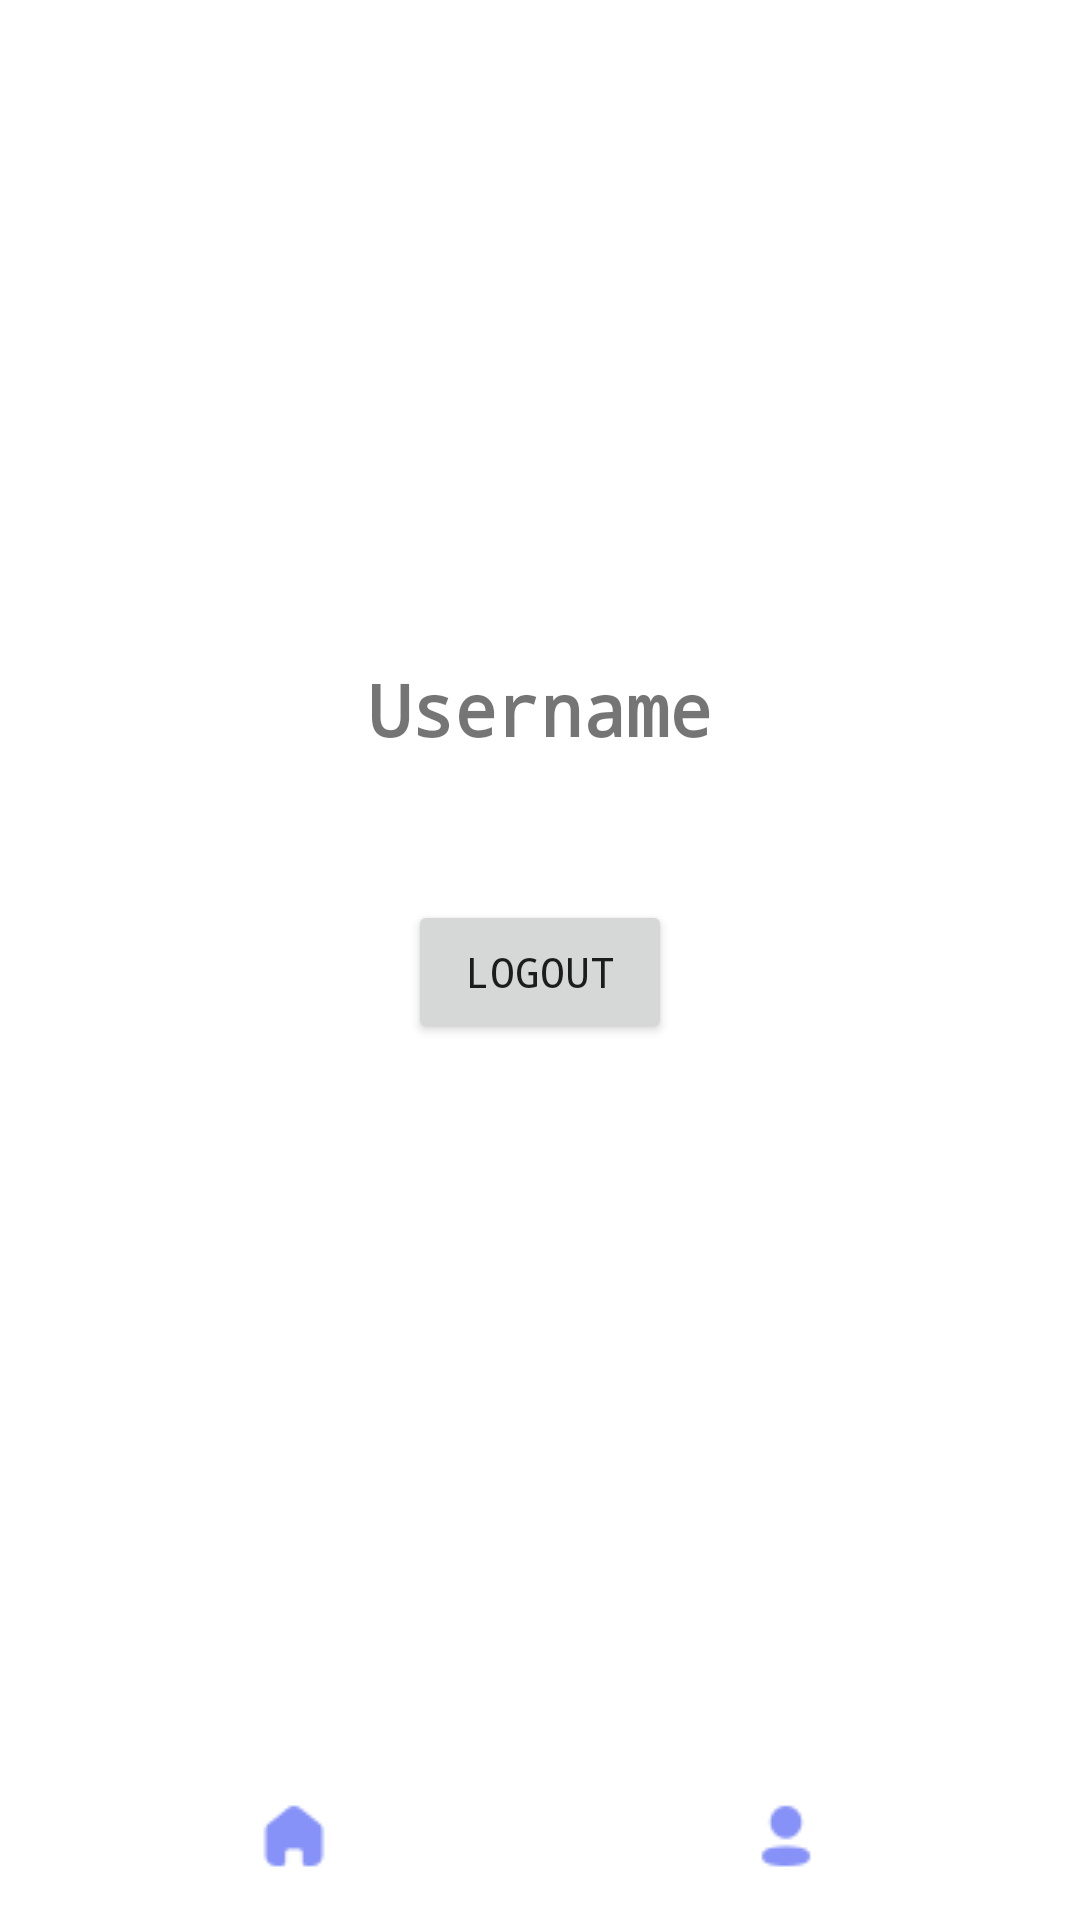

Icons on this 1080x1920 Android screen, each with the point to tap as (x=x, y=y):
Home: (x=294, y=1836)
